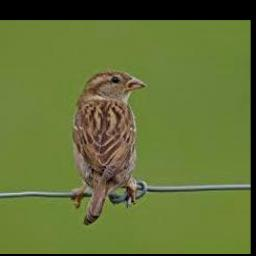Sparrow: (73, 69, 147, 224)
